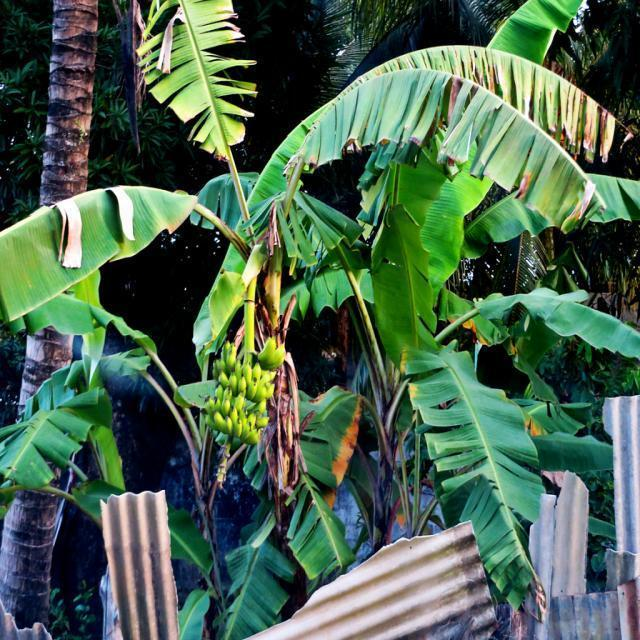Banana: (200, 327, 276, 472)
